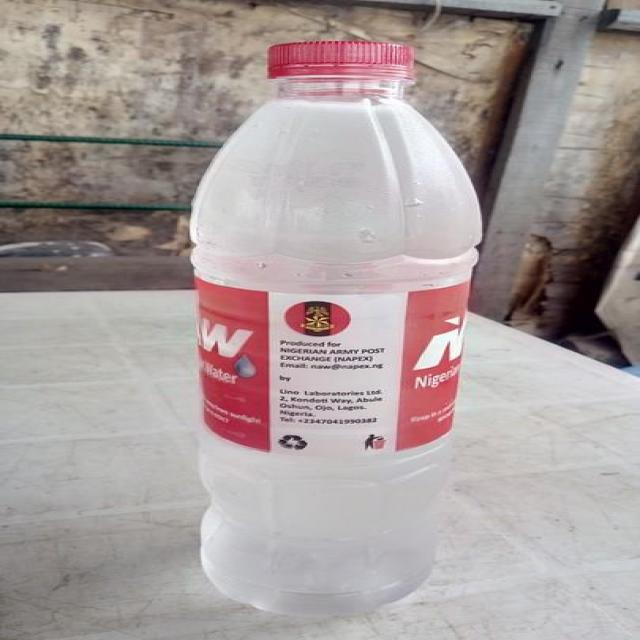bottle: (158, 26, 469, 639)
